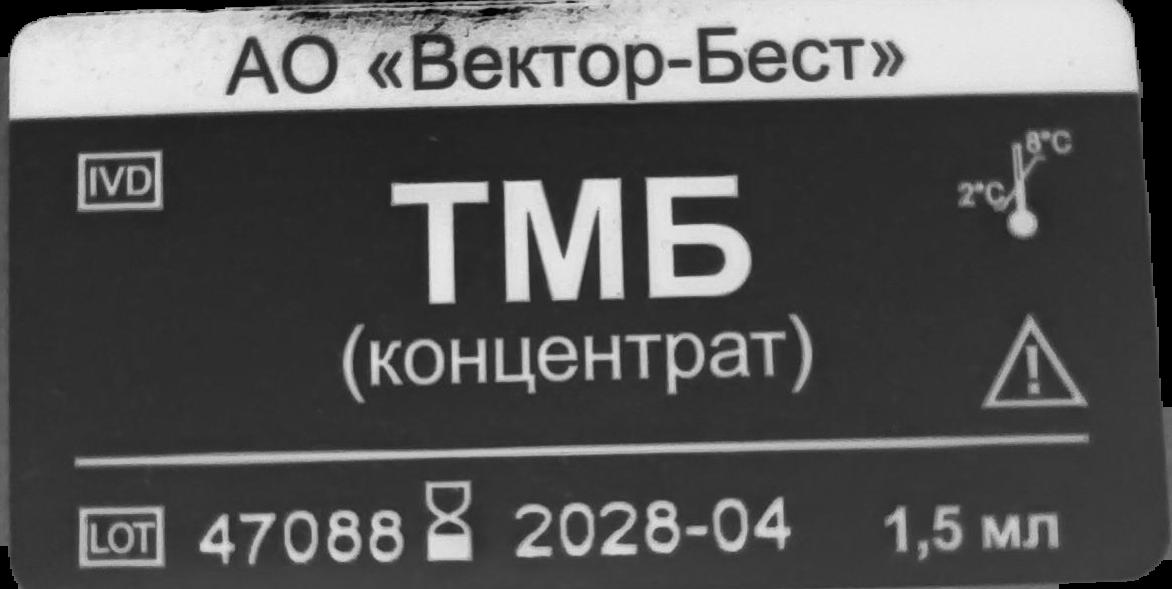something: (953, 122, 1079, 236), (978, 305, 1092, 416), (71, 148, 166, 214), (72, 504, 168, 568), (424, 477, 477, 564)
text: (340, 176, 824, 419), (220, 27, 909, 98), (512, 499, 792, 561), (196, 505, 403, 572), (876, 496, 1065, 564)
